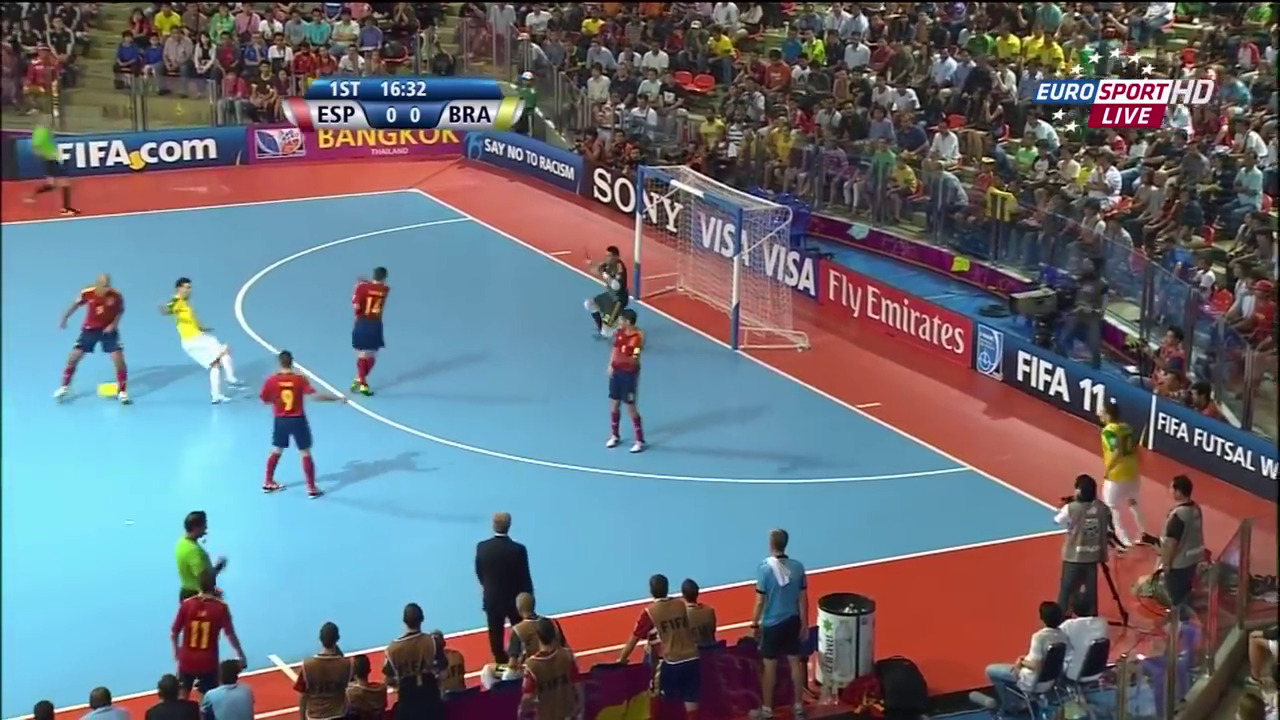ball: (95, 377, 122, 401)
person: (253, 351, 354, 494), (155, 273, 258, 404), (57, 265, 134, 401), (1086, 407, 1144, 545), (599, 311, 654, 456), (353, 263, 393, 393), (582, 245, 631, 342)
